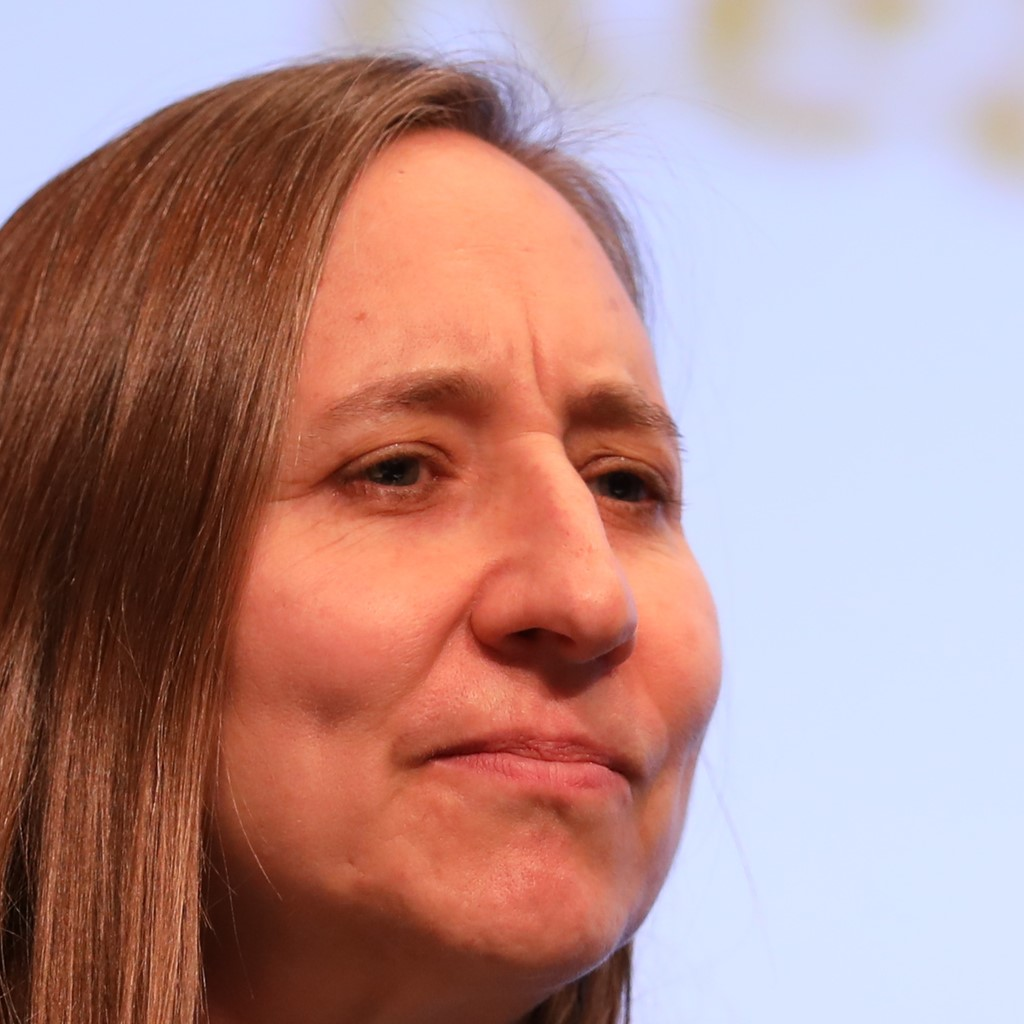sin_mascara: (219, 147, 730, 976)
